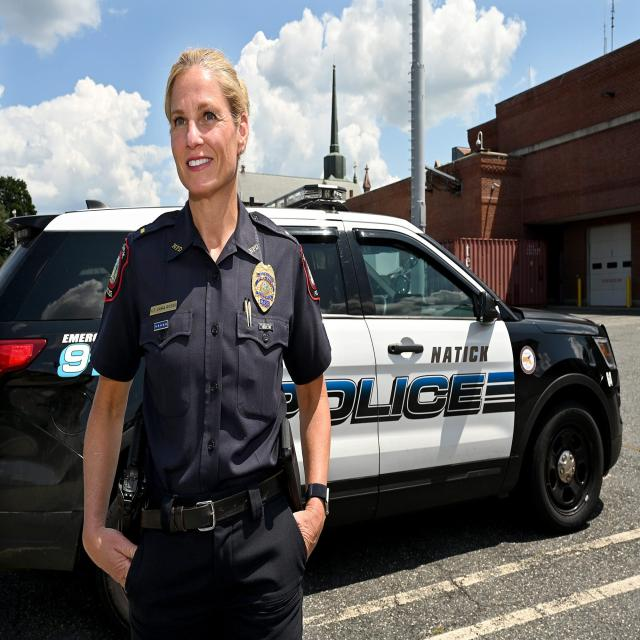police: (89, 18, 335, 640)
